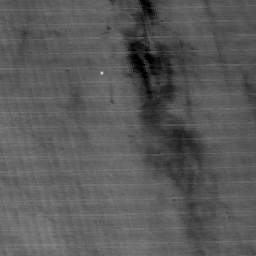Target: (98, 69, 105, 76)
